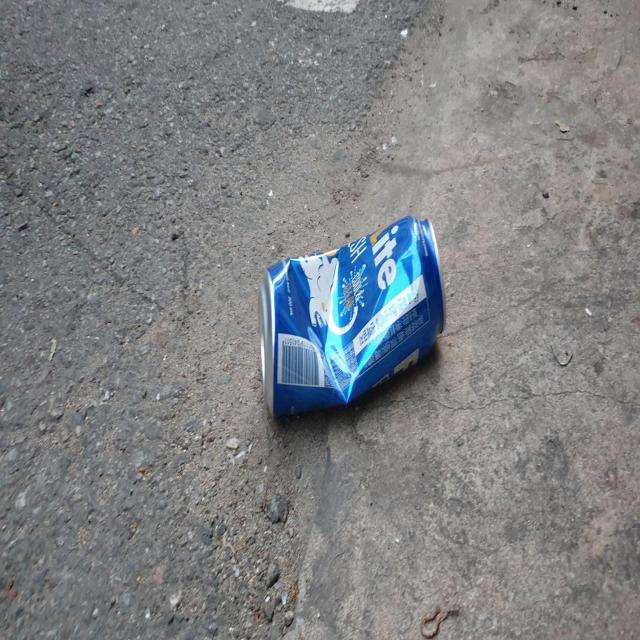can: (258, 215, 446, 416)
